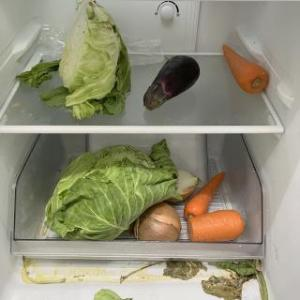cabbage: (16, 1, 134, 122), (44, 139, 178, 243)
carrot: (221, 44, 271, 96), (186, 210, 248, 246), (183, 170, 227, 220)
eggplant: (142, 55, 202, 111)
onion: (134, 203, 184, 242), (160, 167, 202, 205)
